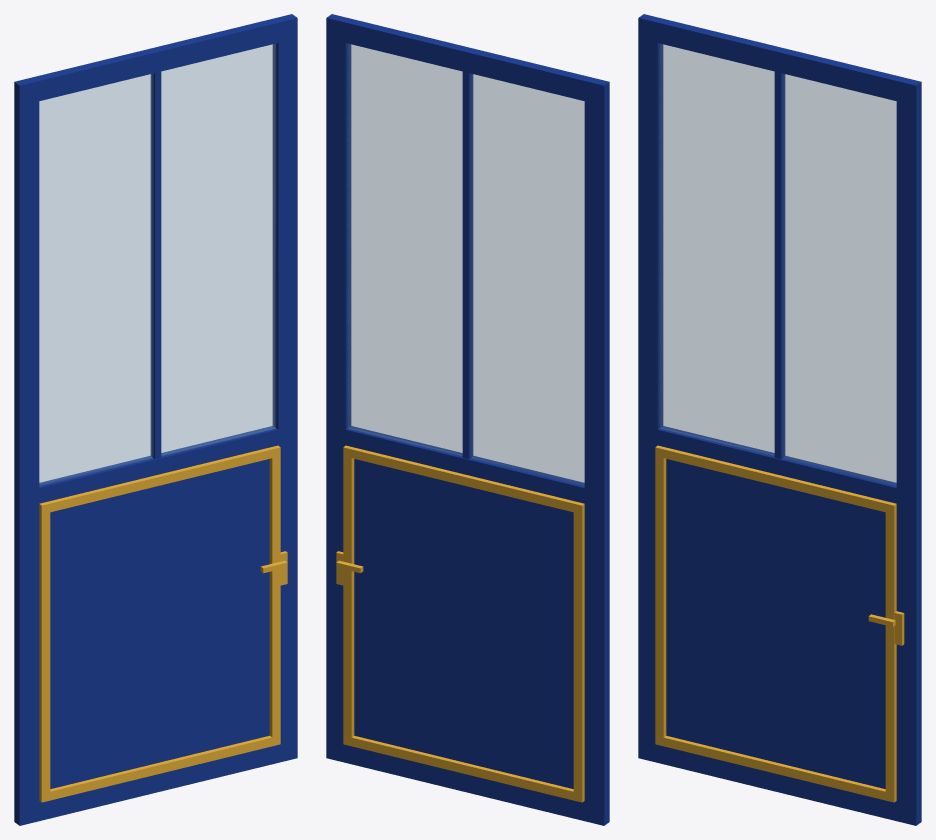
File: SM_Door_academy_150x380.fbx
3 views of the same model, side by side, from view 1: azimuth 30°, elevation 25°; view 2: azimuth 150°, elevation 25°; view 3: azimuth 330°, elevation 25° (orthographic).
Visible parts, largest first — view 1: SM_Door_academy_150x380; view 2: SM_Door_academy_150x380; view 3: SM_Door_academy_150x380.
Part boxes in pixels (<box>): SM_Door_academy_150x380: <box>14,14,297,825</box>; SM_Door_academy_150x380: <box>326,14,609,825</box>; SM_Door_academy_150x380: <box>638,14,921,825</box>.
Bounding box in the file's own units: 1.49 × 3.79 × 0.175.
